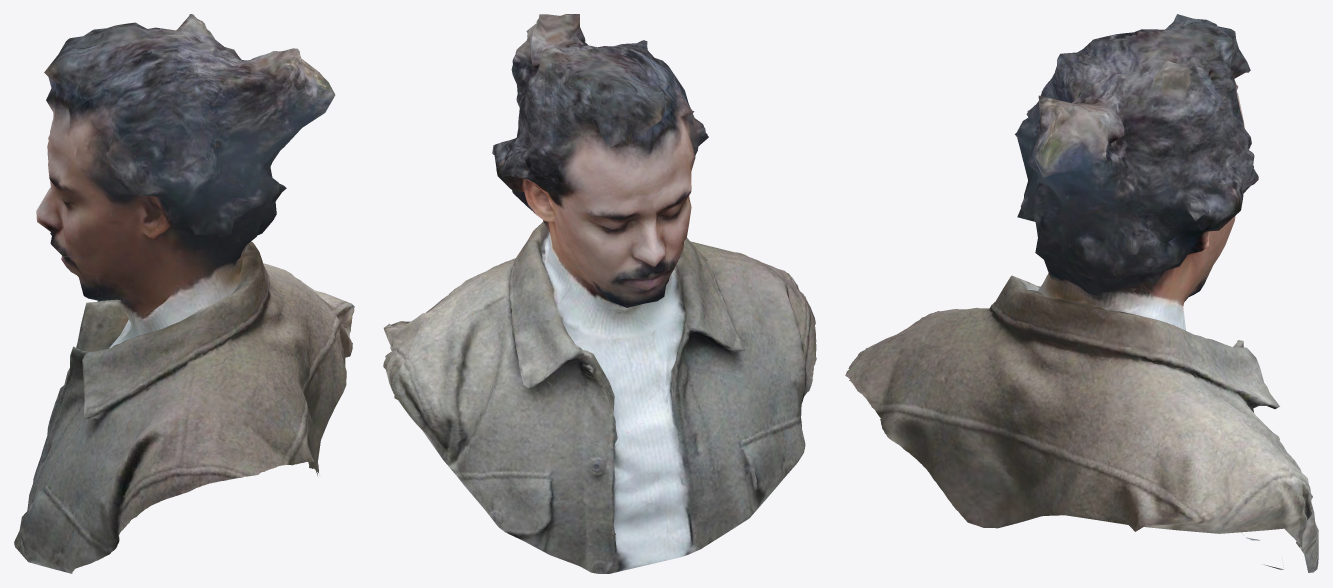
Rendered from me_medium.glb.
3 renders of one model, left to right at view 1: azimuth 30°, elevation 25°; view 2: azimuth 150°, elevation 25°; view 3: azimuth 270°, elevation 25°, orthographic. The views are drawn at different scales.
Visible parts, largest first — view 1: 6c9a3991-6b77-4d4c-99c0-df39f4d21a8c; view 2: 6c9a3991-6b77-4d4c-99c0-df39f4d21a8c; view 3: 6c9a3991-6b77-4d4c-99c0-df39f4d21a8c.
Part boxes in pixels (left/top/right/bottom): 6c9a3991-6b77-4d4c-99c0-df39f4d21a8c: left=14, top=14, right=354, bottom=573; 6c9a3991-6b77-4d4c-99c0-df39f4d21a8c: left=383, top=14, right=816, bottom=573; 6c9a3991-6b77-4d4c-99c0-df39f4d21a8c: left=845, top=14, right=1318, bottom=572.
Bounding box in the file's own units: 1.14 × 1.5 × 1.15.
1 material, 1 textured.
